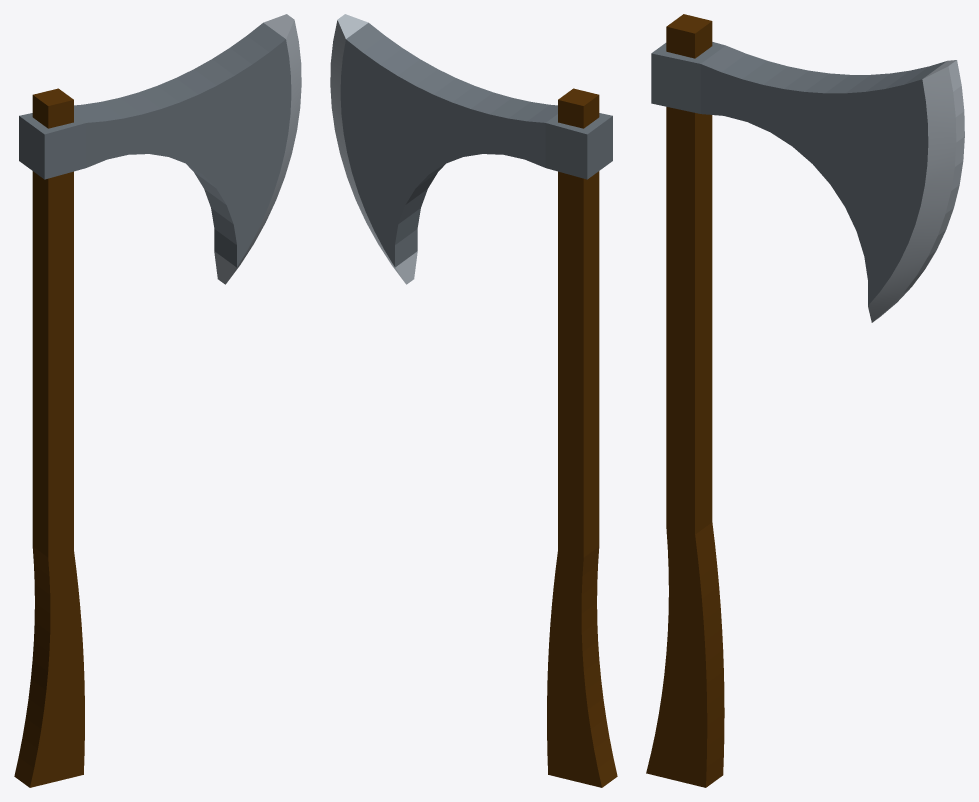
The model's file is Axe2.fbx.
3 renders of one model, left to right at view 1: azimuth 30°, elevation 25°; view 2: azimuth 150°, elevation 25°; view 3: azimuth 330°, elevation 25°, orthographic. The views are drawn at different scales.
Parts seen in each view (by area): view 1: Model; view 2: Model; view 3: Model.
Boxes of the visible parts, x1,y1,x2,y2 form: Model: [14, 14, 301, 787]; Model: [330, 14, 617, 787]; Model: [646, 14, 964, 787].
Bounding box in the file's own units: 31.95 × 77.5 × 5.12.
